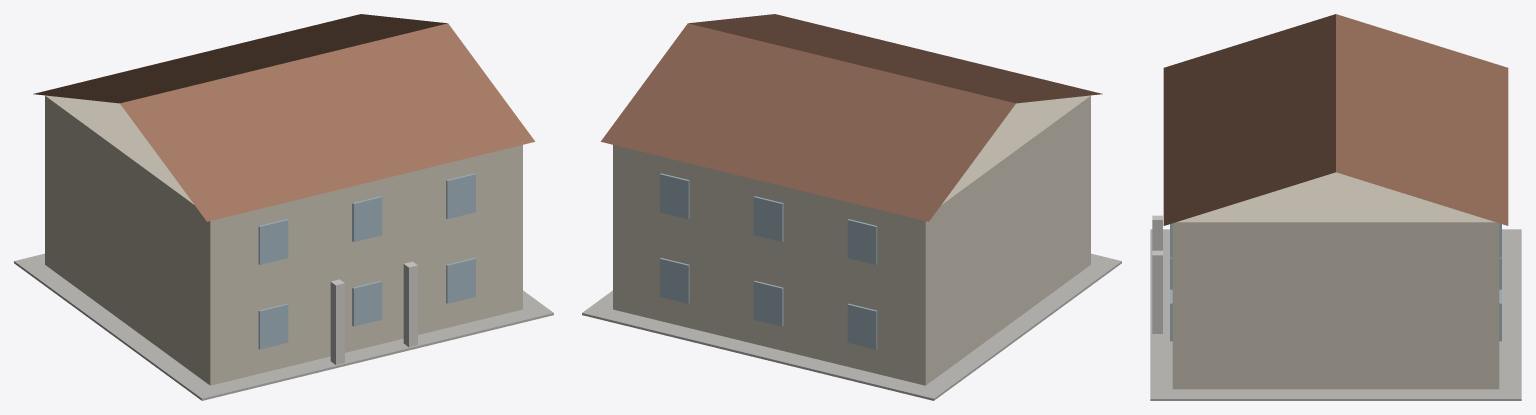
Rendered from italian-family-villa.glb.
The picture shows the model from 3 angles, left to right: view 1: azimuth 30°, elevation 25°; view 2: azimuth 150°, elevation 25°; view 3: azimuth 270°, elevation 25°; orthographic projection.
Visible parts, largest first — view 1: House; view 2: House; view 3: House.
Part boxes in pixels (x1=…): House: x1=14, y1=14, x2=553, y2=400; House: x1=582, y1=14, x2=1121, y2=400; House: x1=1150, y1=14, x2=1521, y2=400.
Size of the model in its own units: 13.5 by 8.28 by 12.5.
